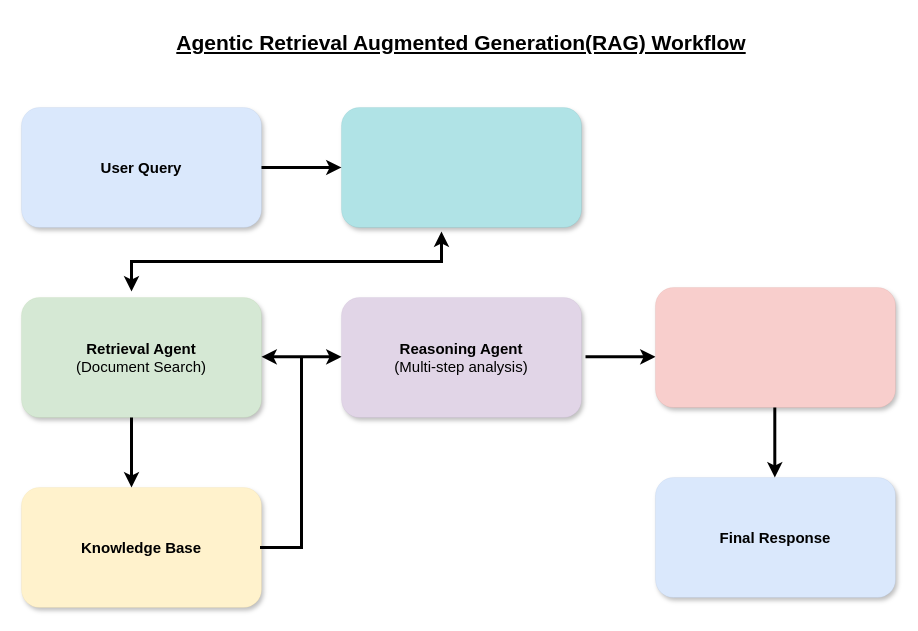
Some shapes in this 918 by 631 pixel diagram are drawn without their labels. Here are the shapes that lost their labels. From the top down, the centre of each, then its label:
[462,168]: Query Analysis Agent (Task Decomposition)
[776,348]: Response Generation (Answer synthesis)
